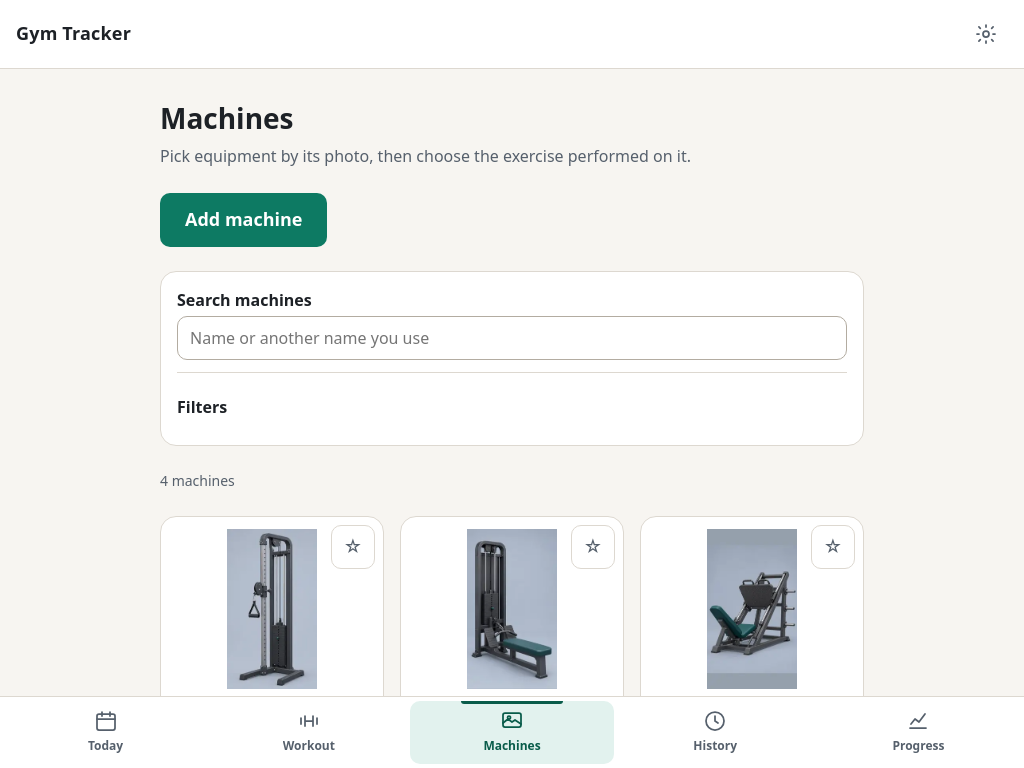
searching › clears the search box from its own button
expect the link with aria-label "Open Low cable row station" is shown: met, box [413,529,611,717]
In the search field labelled "Search machines": (512, 338) [177,316,847,360], type "row"
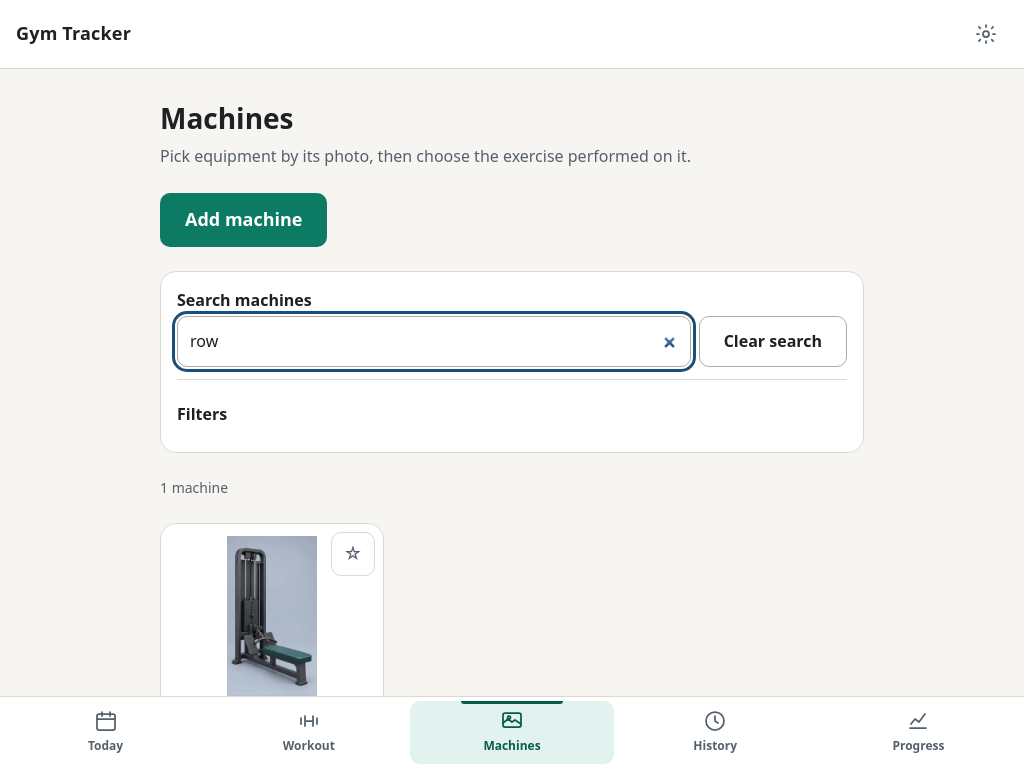
Click the button "Clear search": (773, 342) [699,316,847,367]
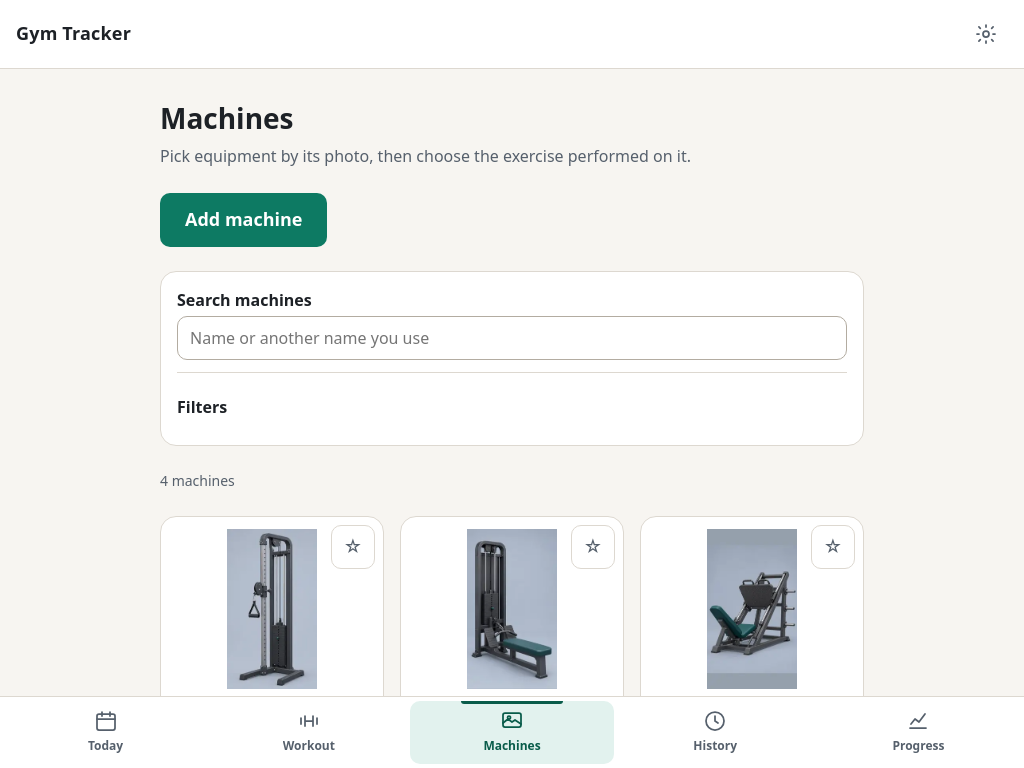
expect the search field labelled "Search machines" is empty: met, box [177,316,847,360]
expect the text "4 machines" is shown: met, box [160,472,235,490]
